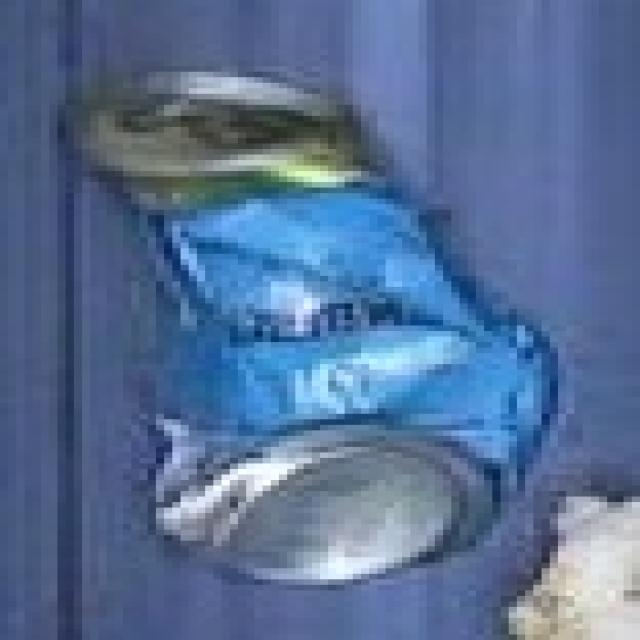can: (41, 43, 601, 621)
